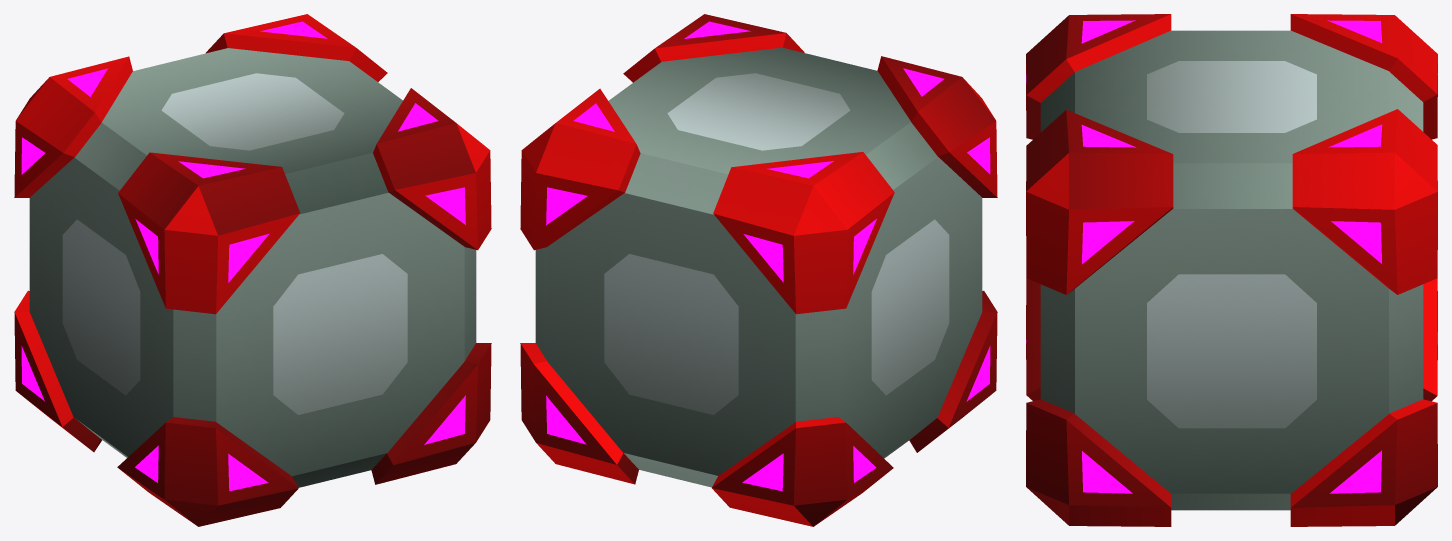
3 renders of one model, left to right at view 1: azimuth 30°, elevation 25°; view 2: azimuth 150°, elevation 25°; view 3: azimuth 270°, elevation 25°, orthographic. The views are drawn at different scales.
Parts seen in each view (by area): view 1: box.004; view 2: box.004; view 3: box.004.
Boxes of the visible parts, x1=… form: box.004: x1=14, y1=14, x2=491, y2=526; box.004: x1=520, y1=14, x2=997, y2=526; box.004: x1=1026, y1=14, x2=1437, y2=526.
Bounding box in the file's own units: 112 × 112 × 112.
